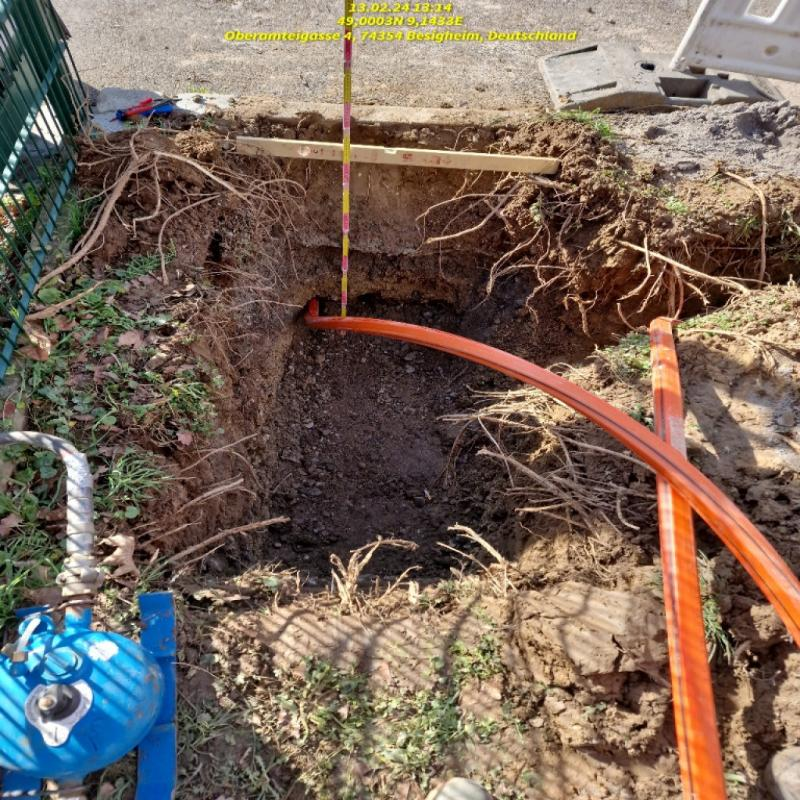Orang-Speednetrohrchen: (326, 316, 800, 798)
